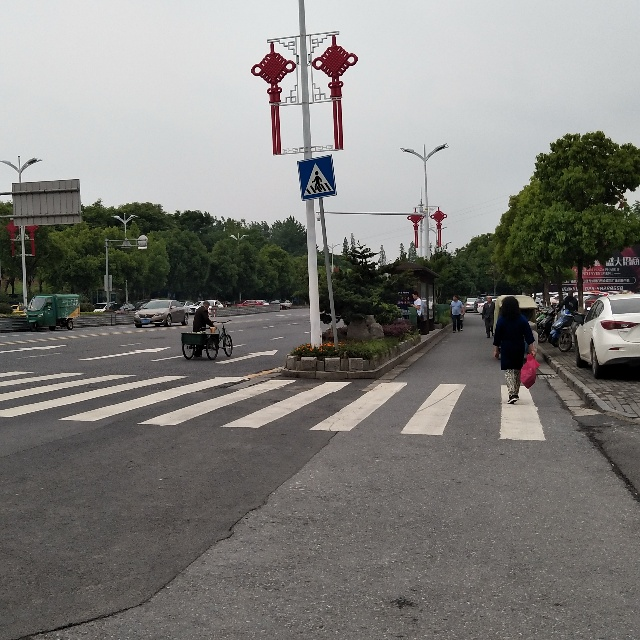crosswalk: (299, 161, 336, 197)
